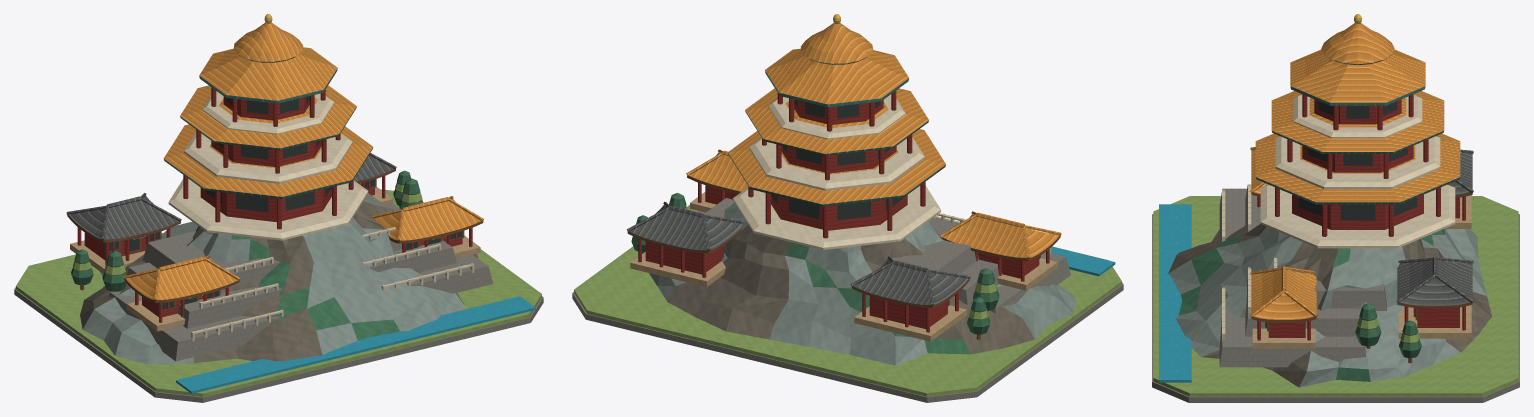
The model's file is summer-palace.glb.
3 views of the same model, side by side, from view 1: azimuth 30°, elevation 25°; view 2: azimuth 150°, elevation 25°; view 3: azimuth 270°, elevation 25° (orthographic). The views are drawn at different scales.
Visible parts, largest first — view 1: 颐和园; view 2: 颐和园; view 3: 颐和园.
Boxes of the visible parts, x1=… form: 颐和园: x1=14, y1=14, x2=543, y2=402; 颐和园: x1=572, y1=14, x2=1123, y2=402; 颐和园: x1=1152, y1=14, x2=1519, y2=402.
Bounding box in the file's own units: 11.75 × 7.99 × 9.2.
Materials: 17 (17 with a texture image).
